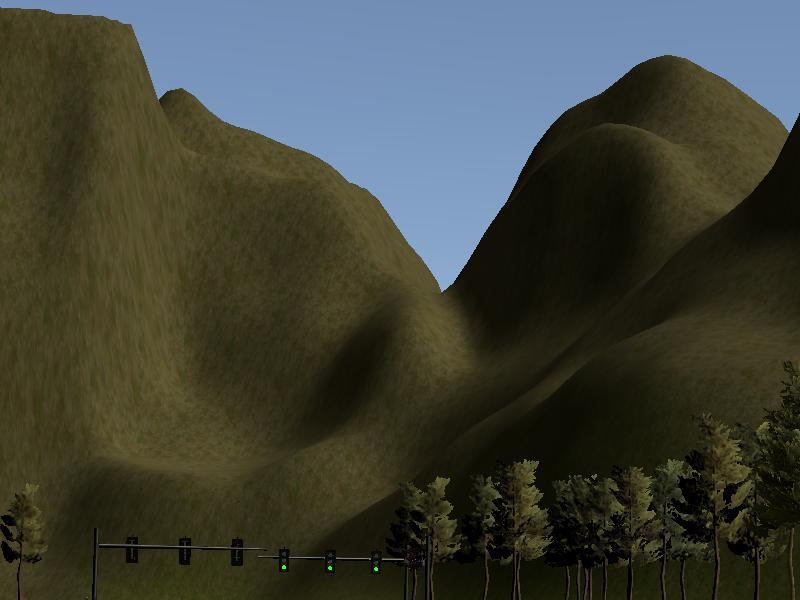Green: (370, 548, 382, 575), (325, 547, 336, 575), (279, 546, 289, 572)
